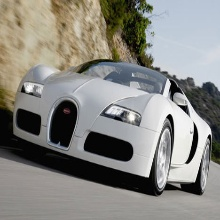no damage: (13, 57, 212, 201)
